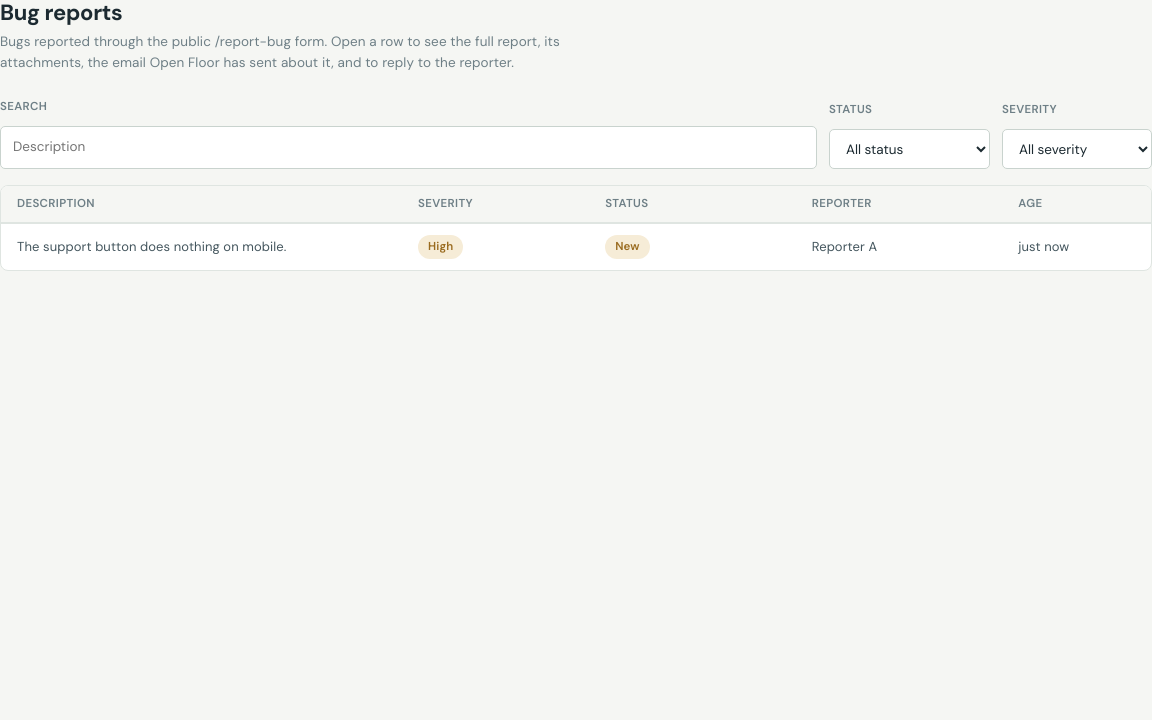
Test case: bug detail drawer › closes on Escape
Click the text "The support button does nothing on mobile." at [152, 246], box [17,238,286,255]
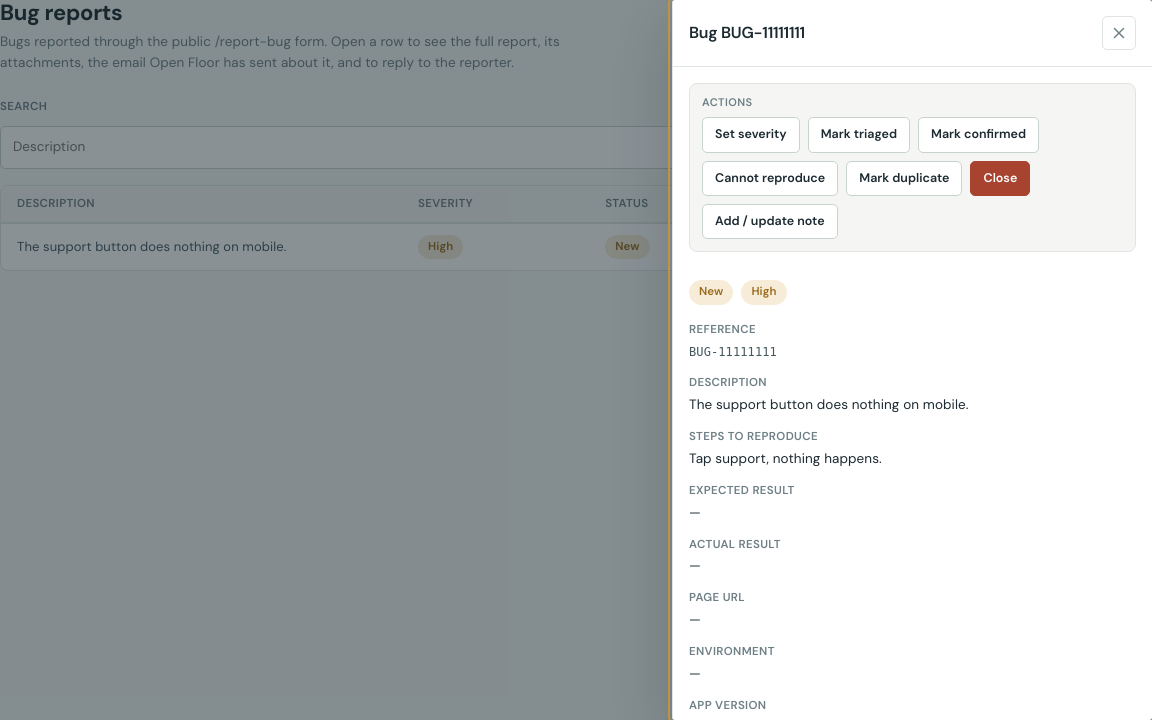
Now the dialog is shown, box [672,0,1151,719]
Press Escape
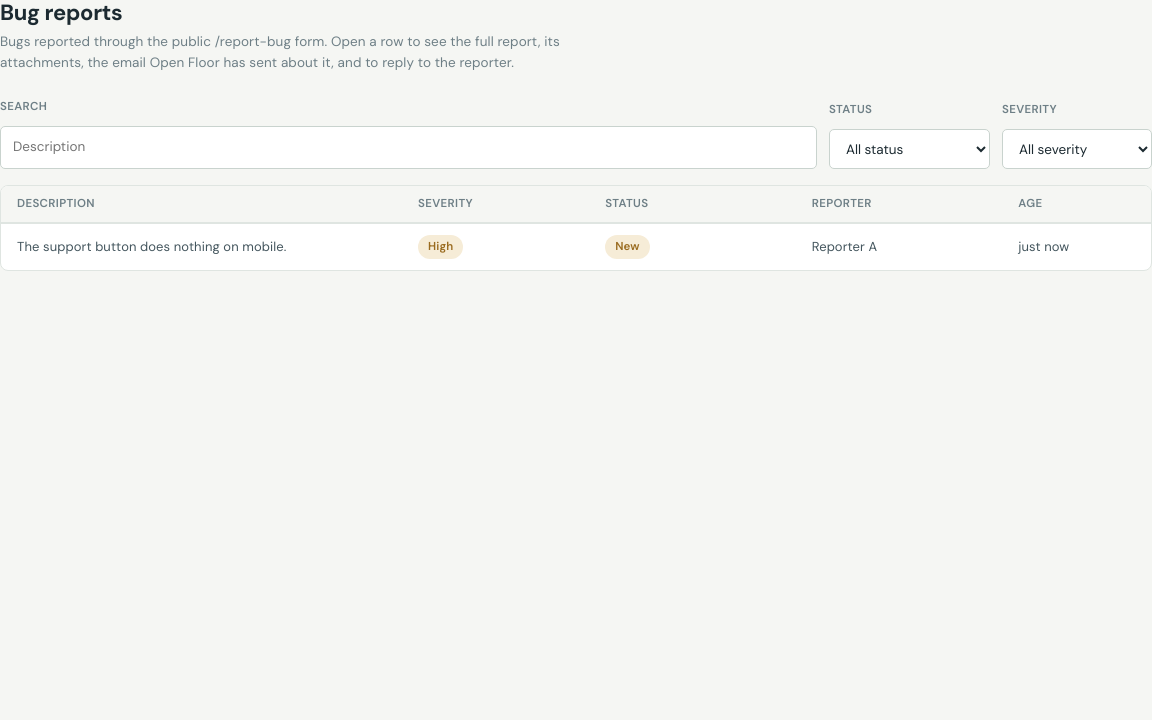
Now the dialog is gone
